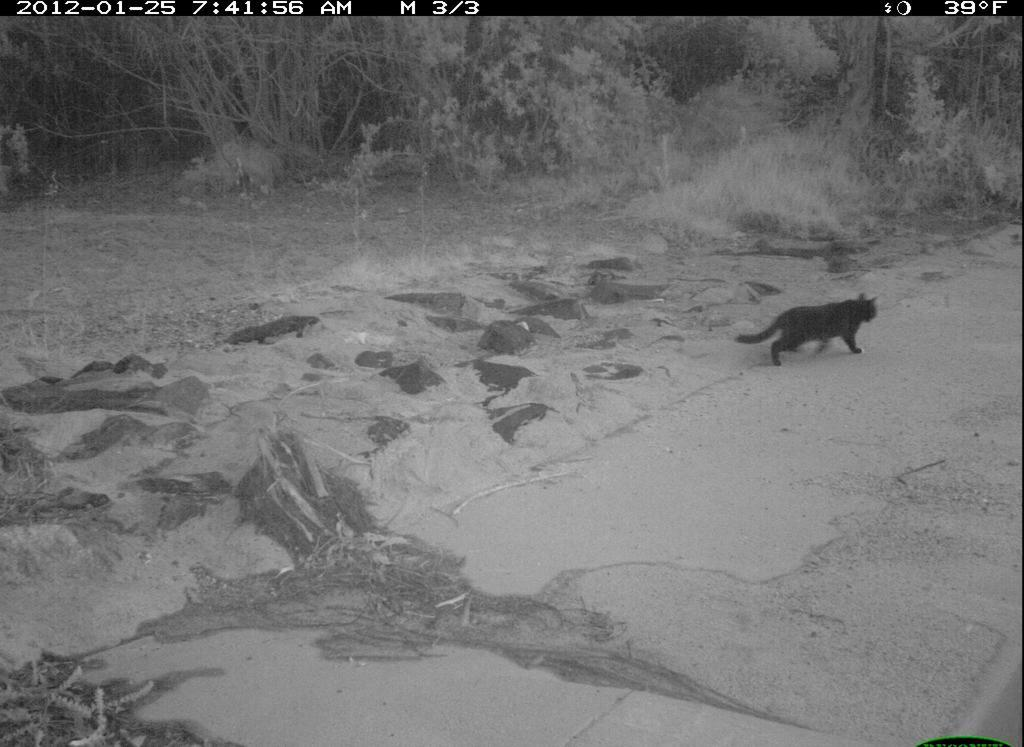cat: (737, 290, 884, 369)
